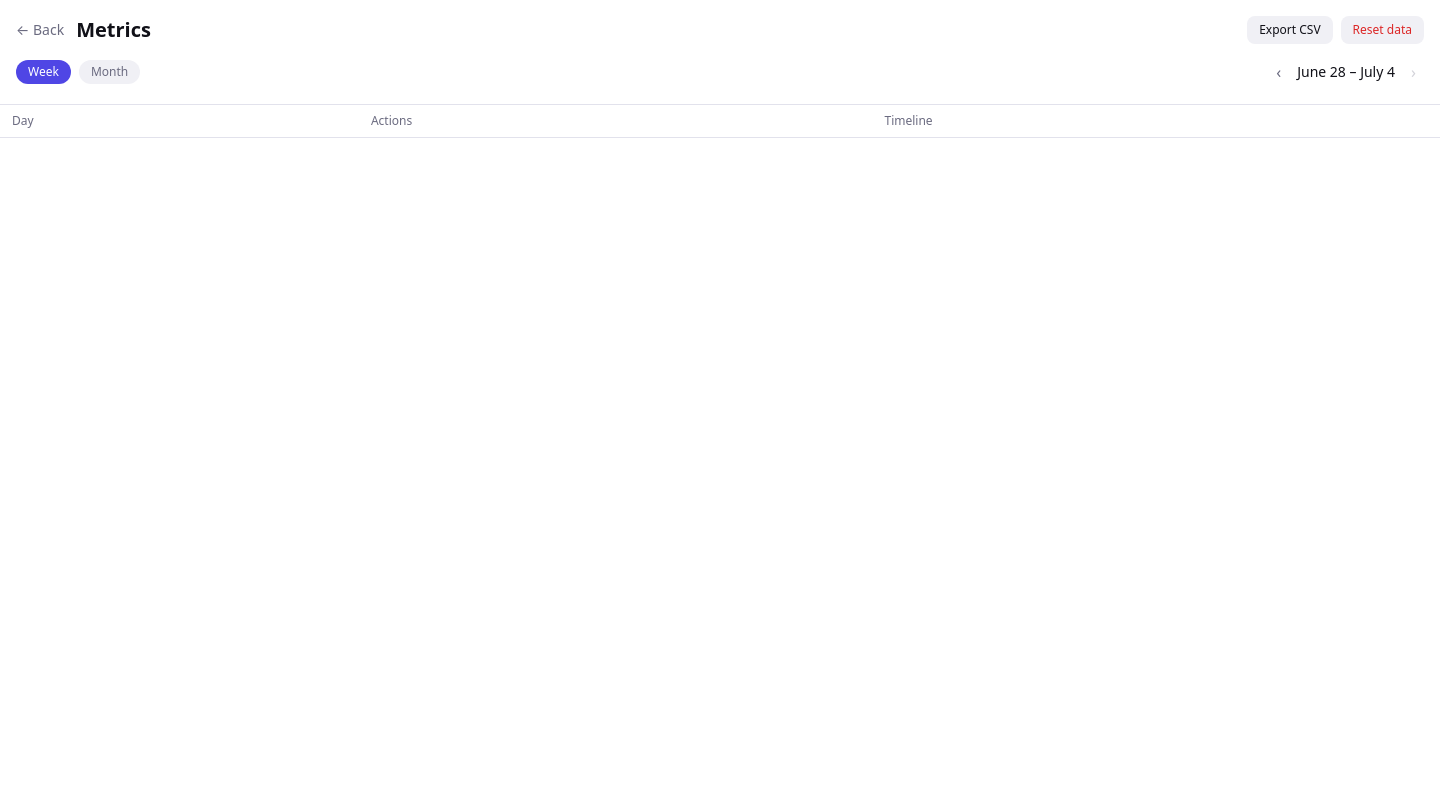
Test: MetricsView › reset dialog › offers an export-first option
The image size is (1440, 810).
Click the button "Reset data" at (1382, 30), box [1341,16,1424,44]
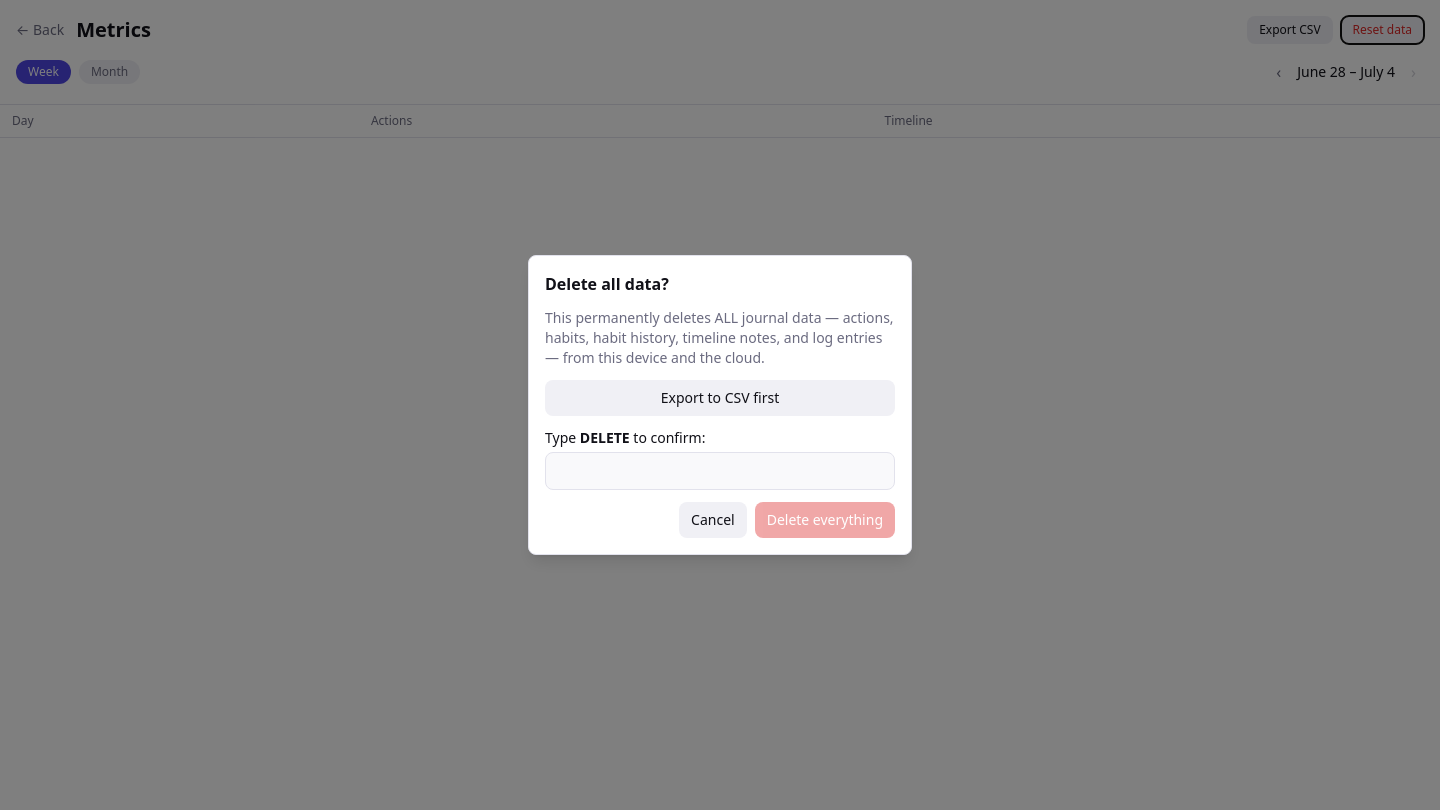
Result: the button "Export to CSV first" is shown at [545,380,895,416]
